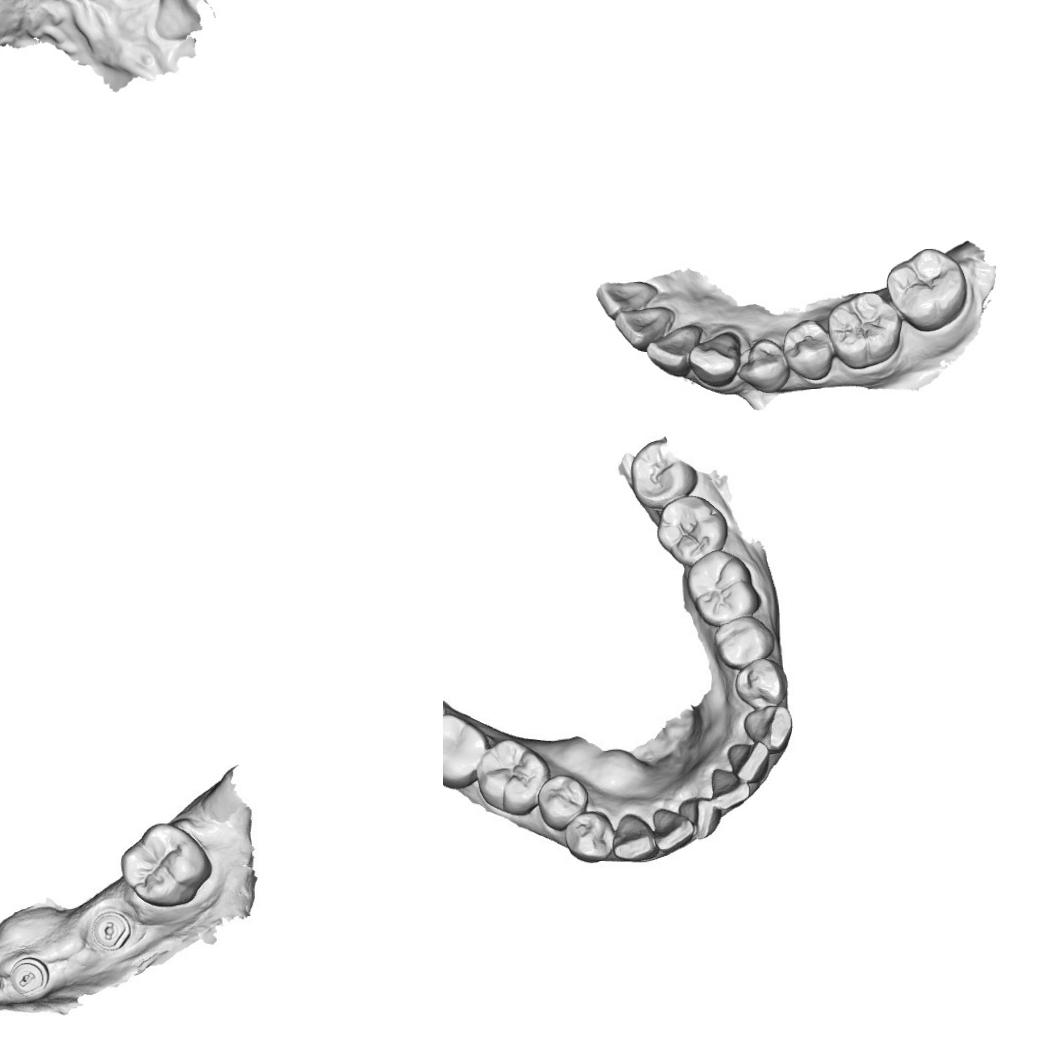canine: (686, 329, 743, 389), (743, 704, 794, 754), (611, 816, 658, 866)
implant_minus: (90, 908, 132, 954), (8, 954, 50, 996)
incisor: (646, 322, 700, 380), (613, 304, 676, 352), (594, 278, 661, 321), (149, 0, 207, 43), (654, 806, 692, 856), (684, 796, 724, 839), (728, 743, 774, 778), (712, 770, 750, 806)
molar: (118, 820, 214, 909), (884, 246, 968, 334), (825, 290, 904, 370), (476, 739, 546, 814), (690, 554, 758, 619), (630, 437, 692, 503), (660, 496, 724, 556), (443, 712, 483, 789)
premolar: (781, 318, 836, 381), (737, 336, 790, 395), (538, 776, 590, 830), (566, 808, 612, 864), (732, 661, 786, 708), (718, 618, 768, 661)
